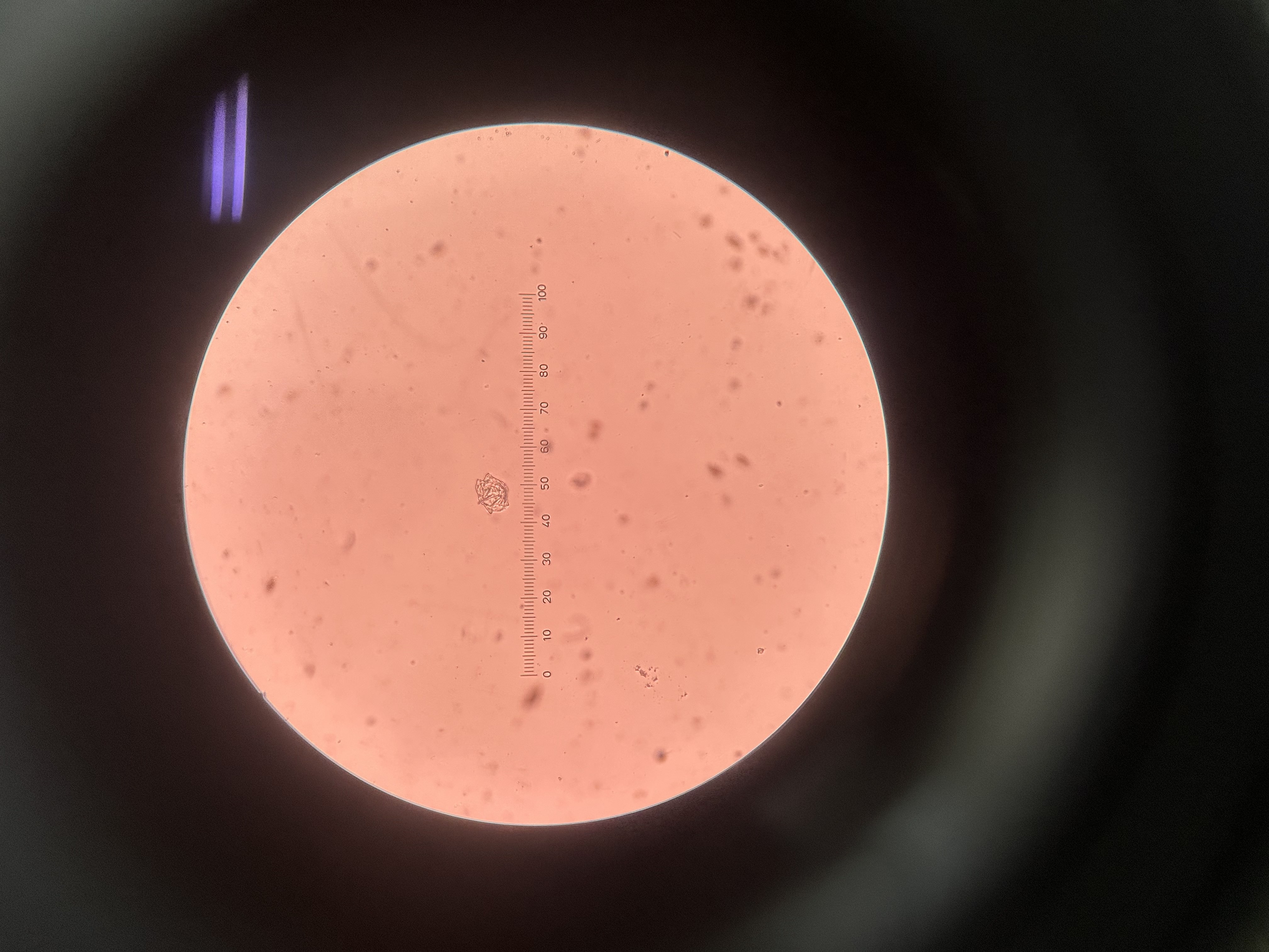microplastic: (470, 470, 513, 516)
